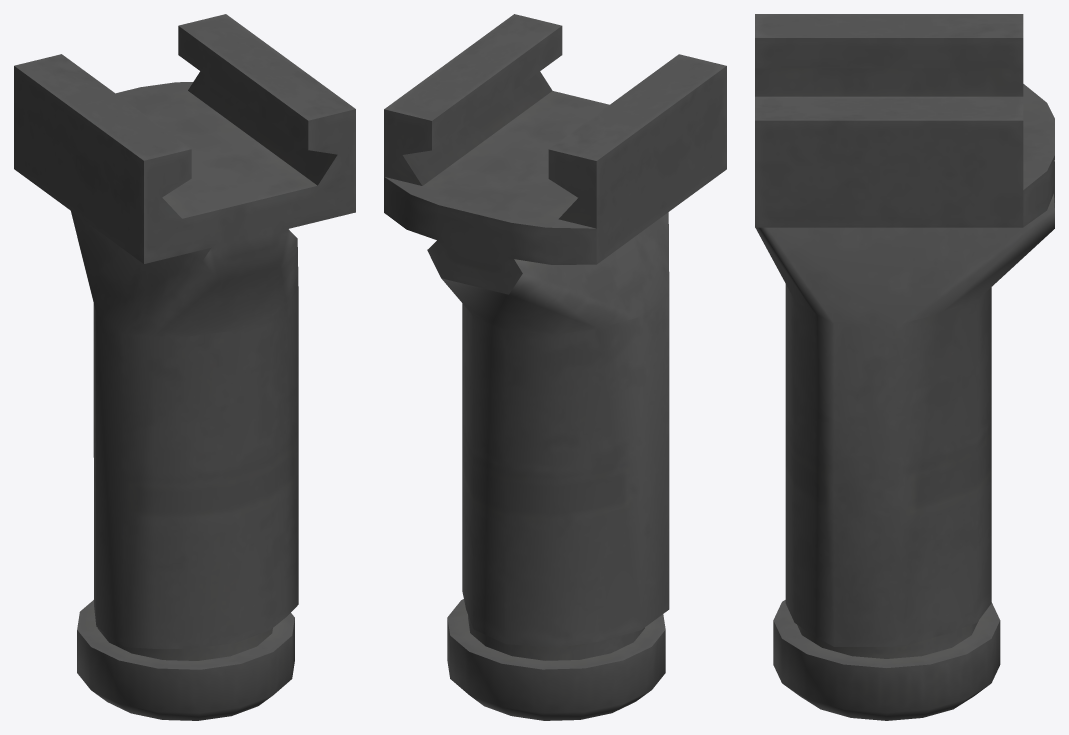
The model's file is IG_Acc_Grip_ALL_REC_3.fbx.
The picture shows the model from 3 angles, left to right: view 1: azimuth 30°, elevation 25°; view 2: azimuth 150°, elevation 25°; view 3: azimuth 270°, elevation 25°; orthographic projection. The views are drawn at different scales.
Parts seen in each view (by area): view 1: Acc_Grip_ALL_REC_3; view 2: Acc_Grip_ALL_REC_3; view 3: Acc_Grip_ALL_REC_3.
Boxes of the visible parts, left/top/right/bottom form: Acc_Grip_ALL_REC_3: left=14, top=14, right=355, bottom=720; Acc_Grip_ALL_REC_3: left=384, top=14, right=726, bottom=720; Acc_Grip_ALL_REC_3: left=755, top=14, right=1054, bottom=720.
Size of the model in its own units: 0.0702 by 0.1881 by 0.0833.
